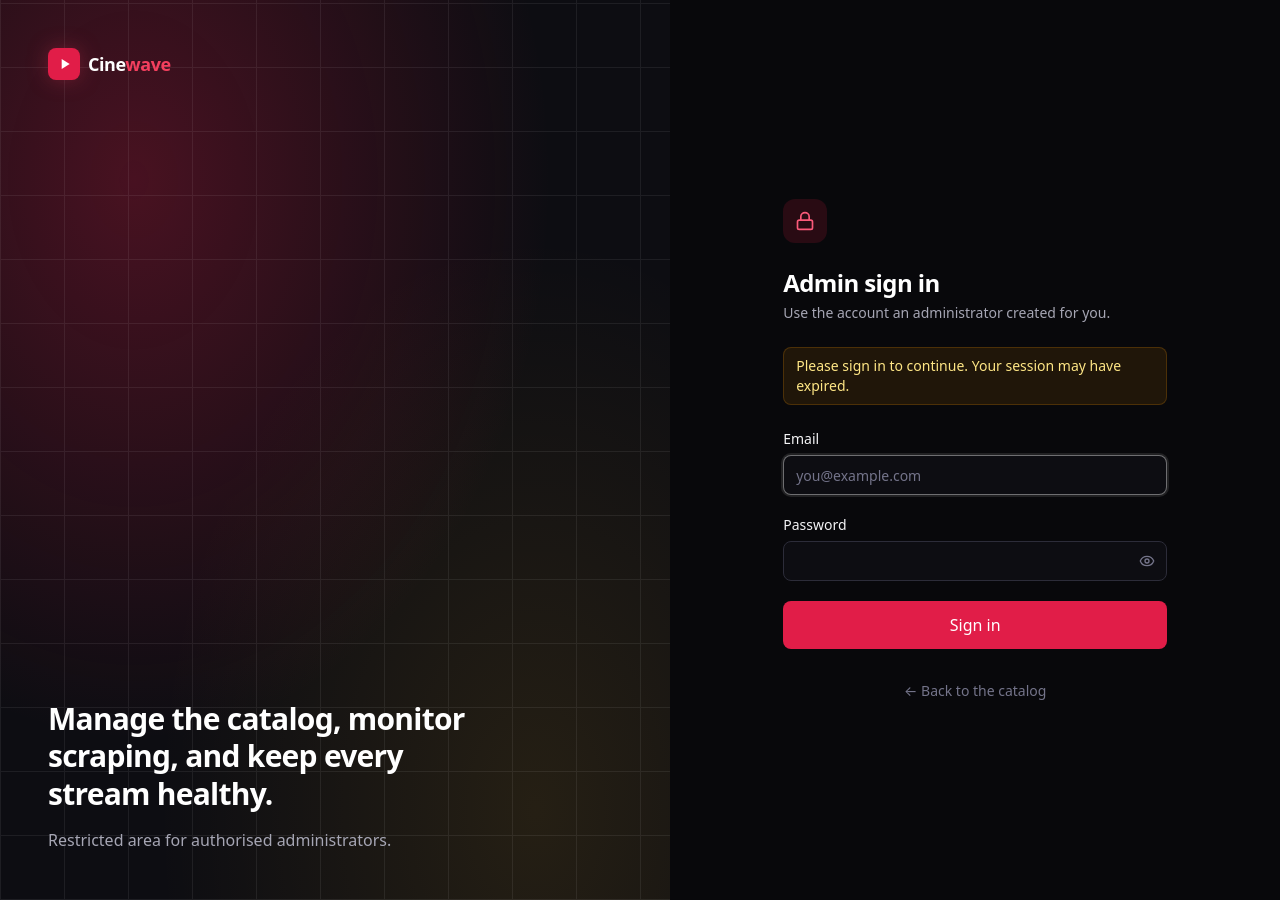
Scenario: login page › signs in and continues to the requested page
In the field labelled "Email": [975, 475] box [783, 455, 1167, 495], type "admin@example.com"
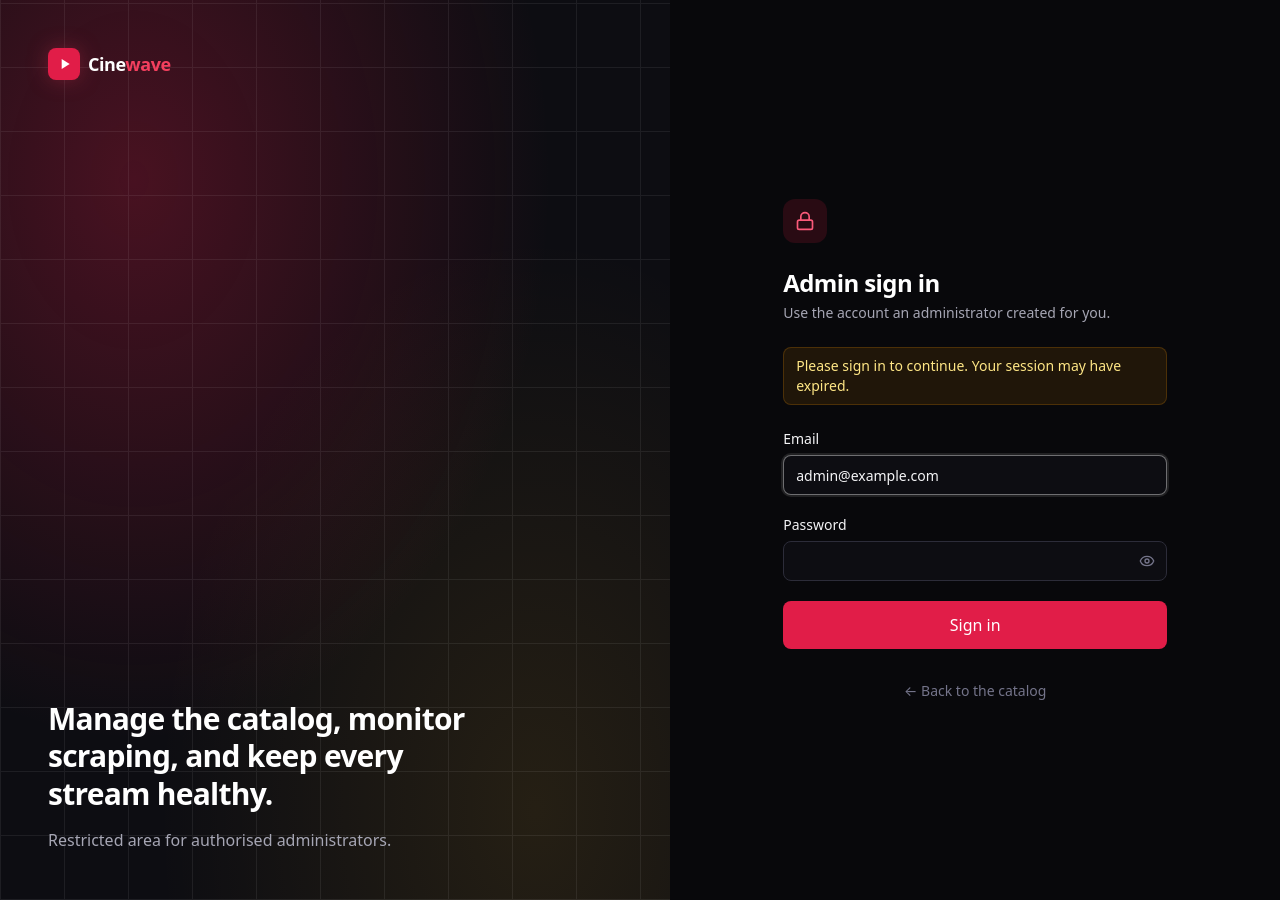
In the password field labelled "Password": [975, 561] box [783, 541, 1167, 581], type "correct-horse"
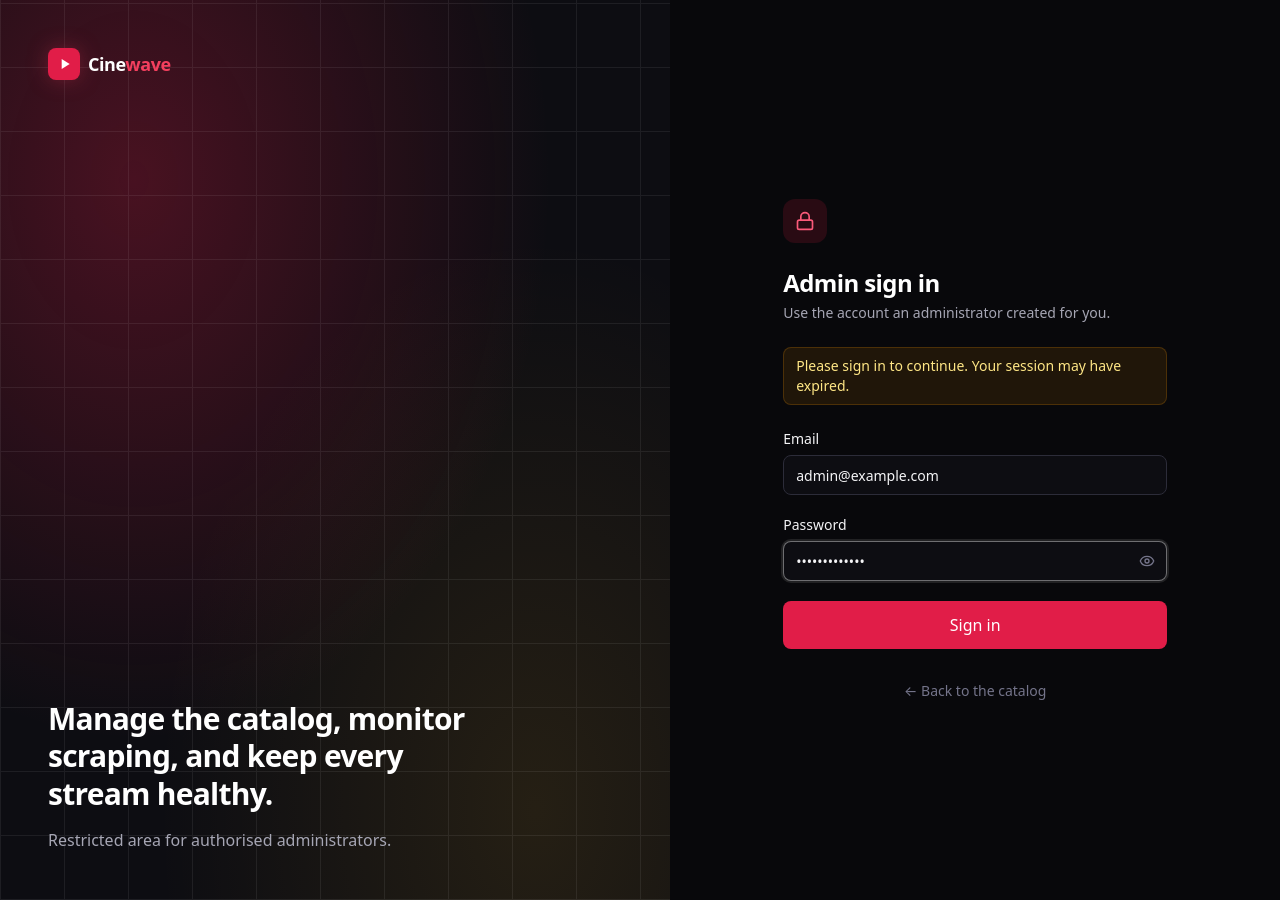
Click the button "Sign in": [975, 625] box [783, 601, 1167, 649]
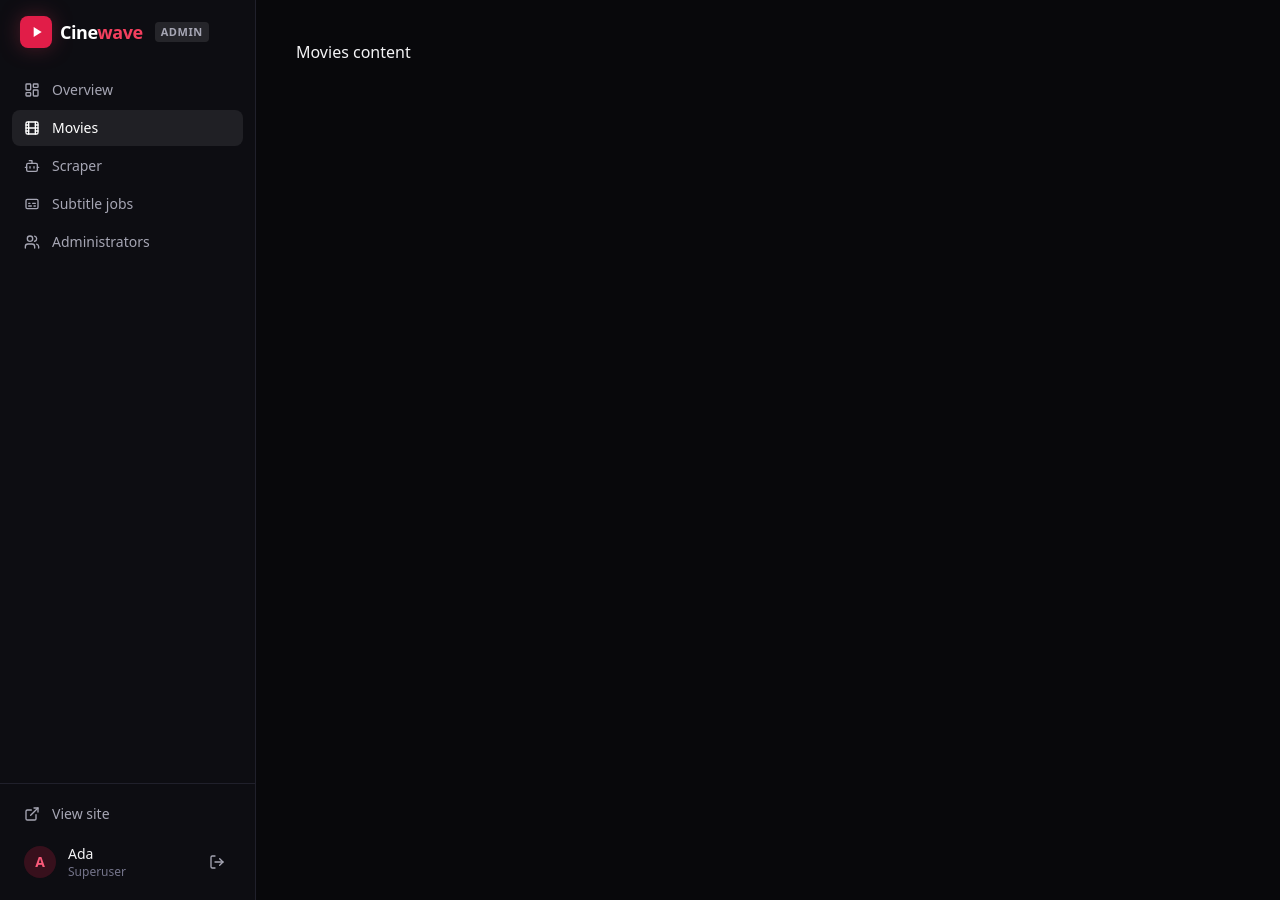
Expected: the text "Movies content" is shown, [296, 41, 411, 63]
